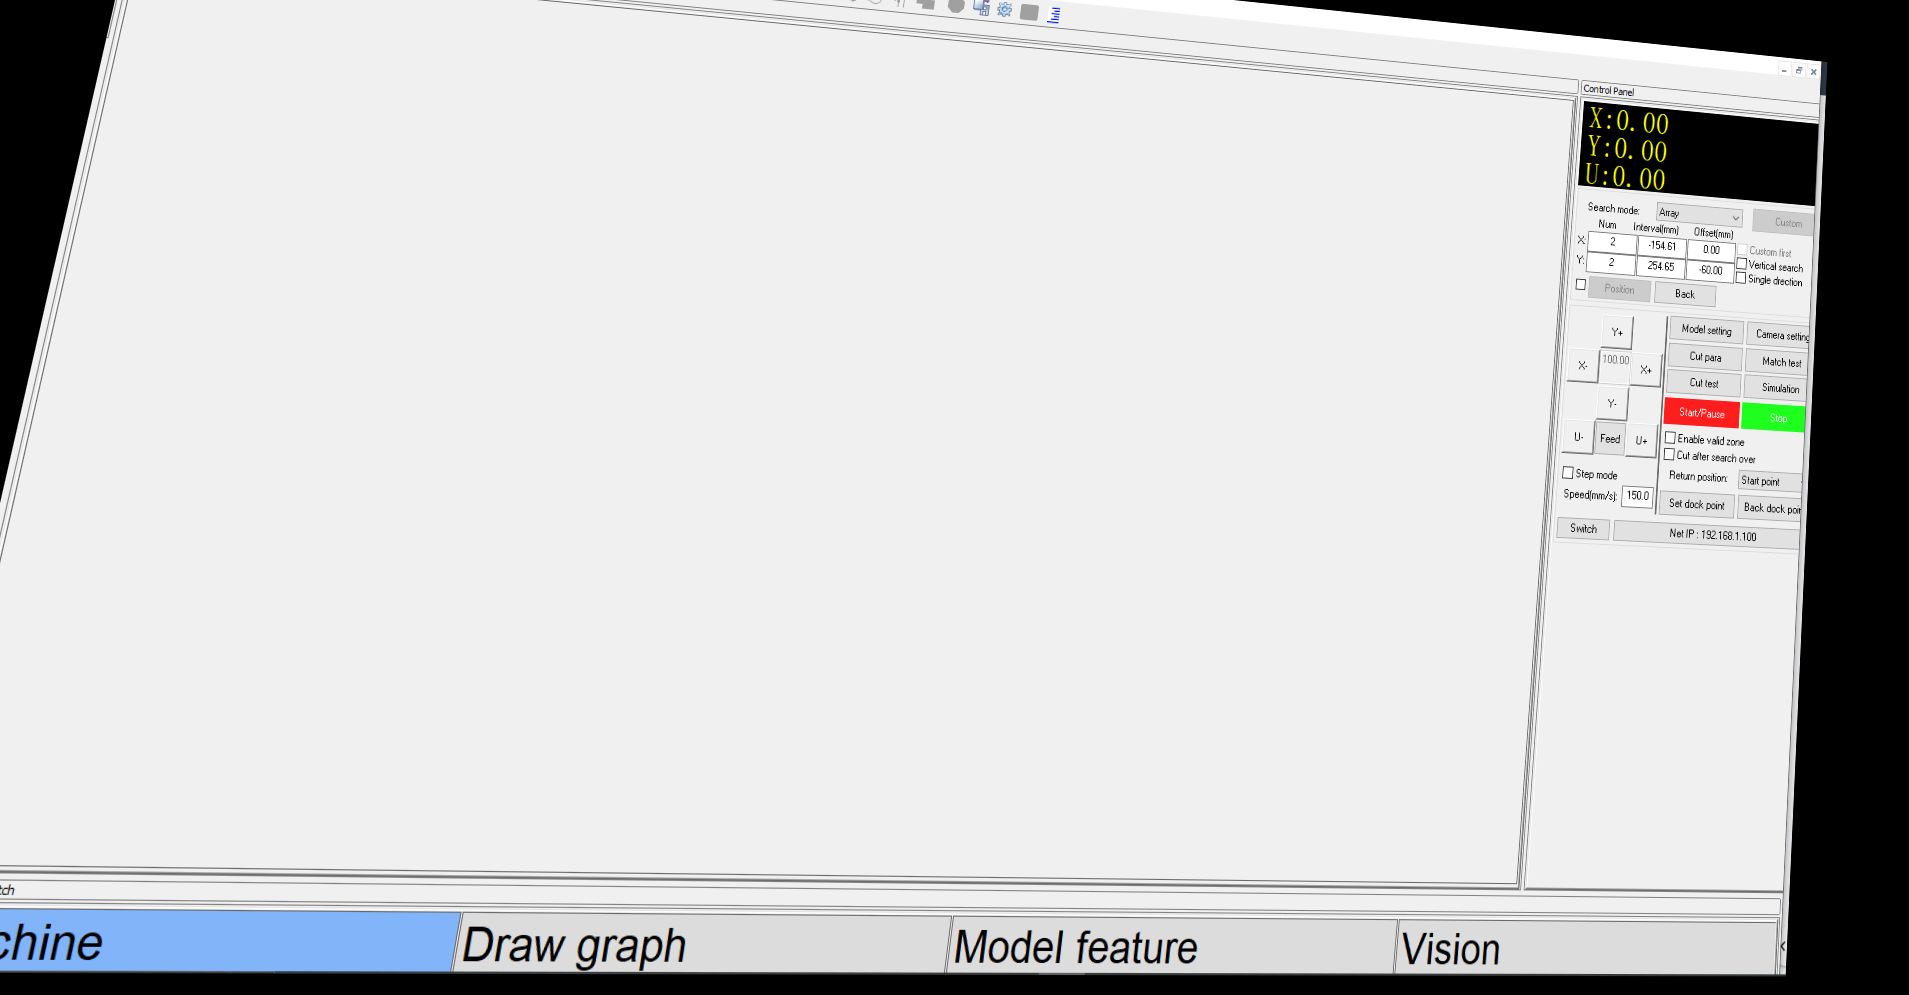start: (1663, 395, 1741, 431)
timer: (1686, 225, 1734, 282)
